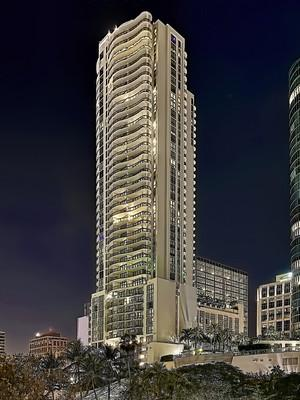building: (81, 8, 200, 364)
